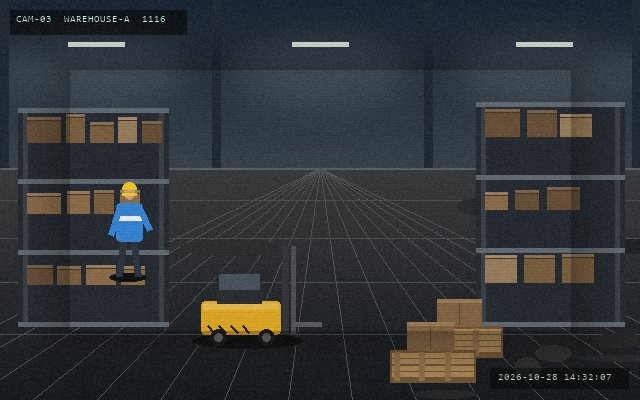forklift: (197, 244, 323, 348)
pallet: (388, 348, 477, 384), (419, 324, 504, 359)
person: (108, 180, 151, 280)
shelf: (476, 102, 624, 322), (18, 108, 168, 322)
